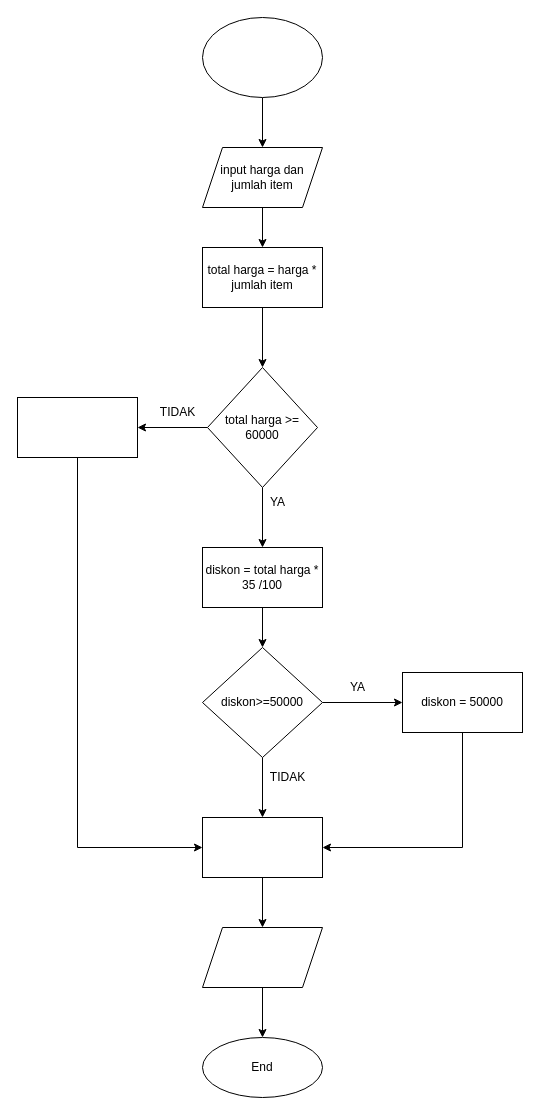
The diagram is 540 pixels wide and 1115 high, and some of its shapes have lost their labels. Each missing label, with the centre of its shape:
"diskon = 0" belongs at point 77,427.
"output subtotal" belongs at point 262,957.
"Start" belongs at point 262,57.
"Subtotal=total harga - diskon" belongs at point 262,847.
